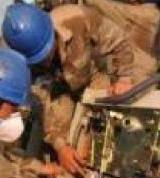hard-hat: (0, 3, 54, 65)
ppe-suit: (0, 31, 26, 116)
